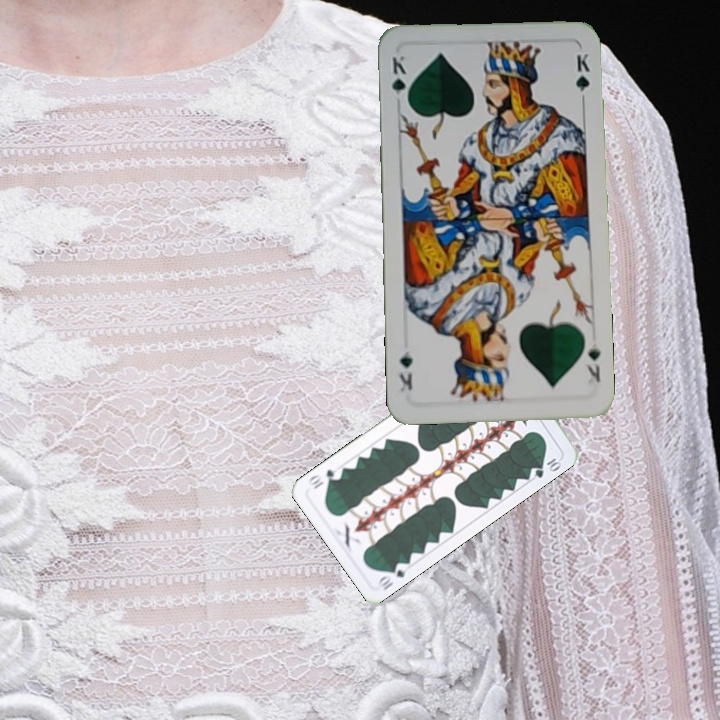G10: (373, 558, 411, 593)
GK: (388, 51, 411, 108), (582, 339, 603, 384)
